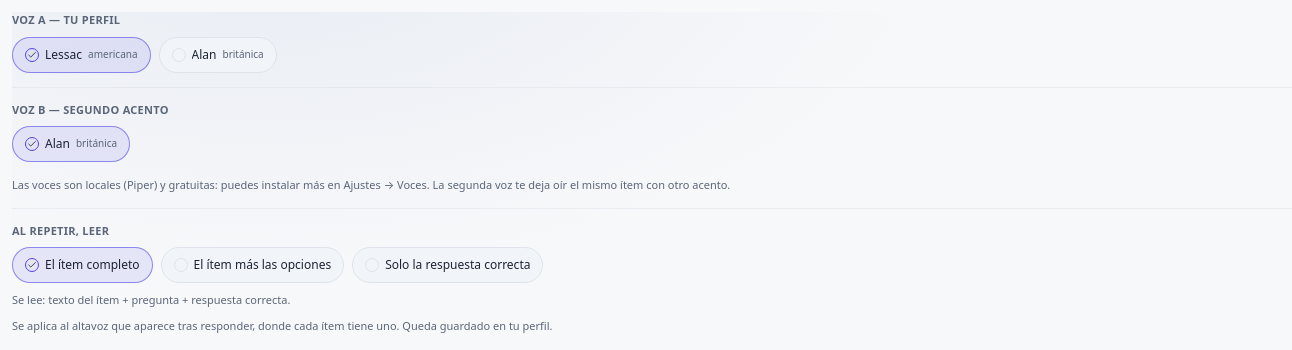
VoicePicker · V3.75.6 lectura al repetir › elegir otra lectura la guarda y actualiza el recibo
The image size is (1292, 350).
Step 1. Click the radio button labelled "El ítem más las opciones" → [252, 265], box [160,247,344,283]
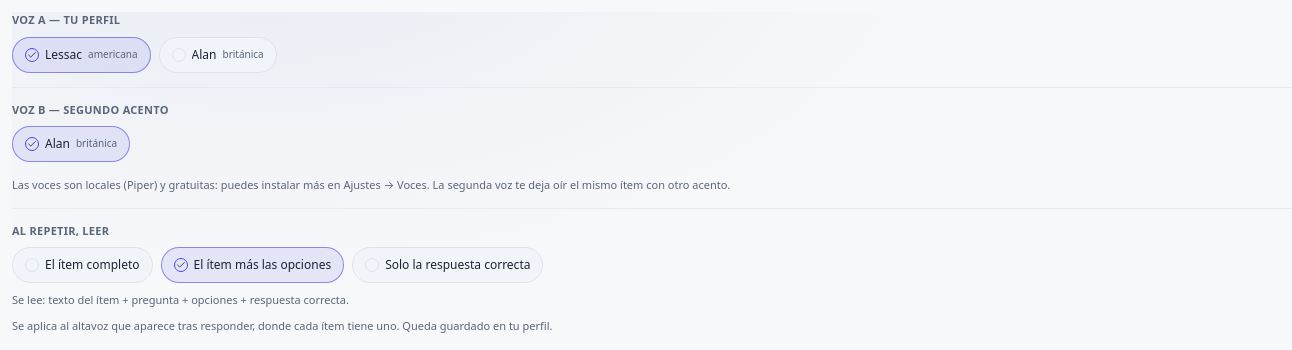
Now the text "texto del ítem + pregunta + opciones" is shown, box [12,292,349,307]
Step 2. Click the radio button labelled "Solo la respuesta correcta" → [448, 265], box [352,247,544,283]
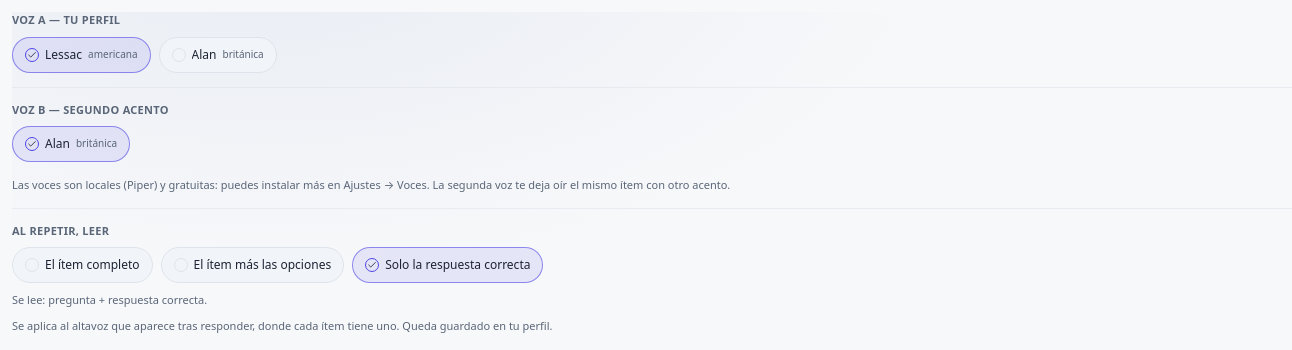
Now the text "Se lee: pregunta + respuesta correcta." is shown, box [12,292,207,307]
